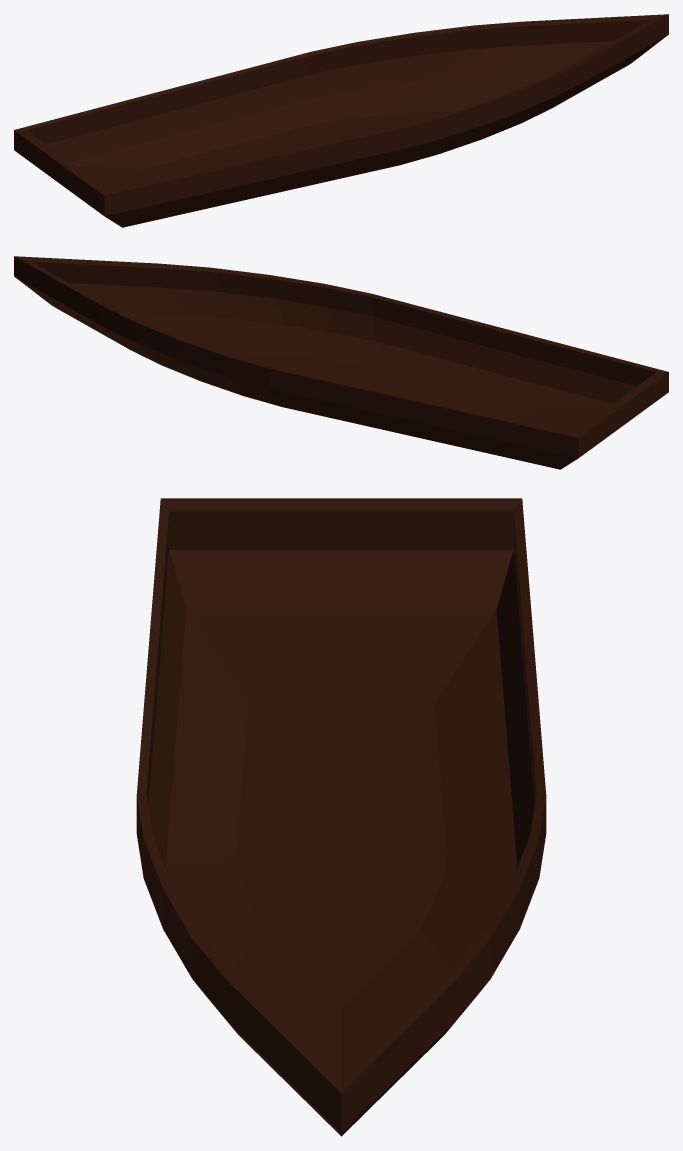
File: Canoe_02.fbx
3 views of the same model, one above another, from view 1: azimuth 30°, elevation 25°; view 2: azimuth 150°, elevation 25°; view 3: azimuth 270°, elevation 25° (orthographic). The views are drawn at different scales.
Parts seen in each view (by area): view 1: Canoe_02; view 2: Canoe_02; view 3: Canoe_02.
Part boxes in pixels (x1,y1,x2,y2): Canoe_02: (14, 14, 668, 227); Canoe_02: (14, 256, 668, 469); Canoe_02: (136, 498, 546, 1136).
Bounding box in the file's own units: 477 × 37.84 × 139.
